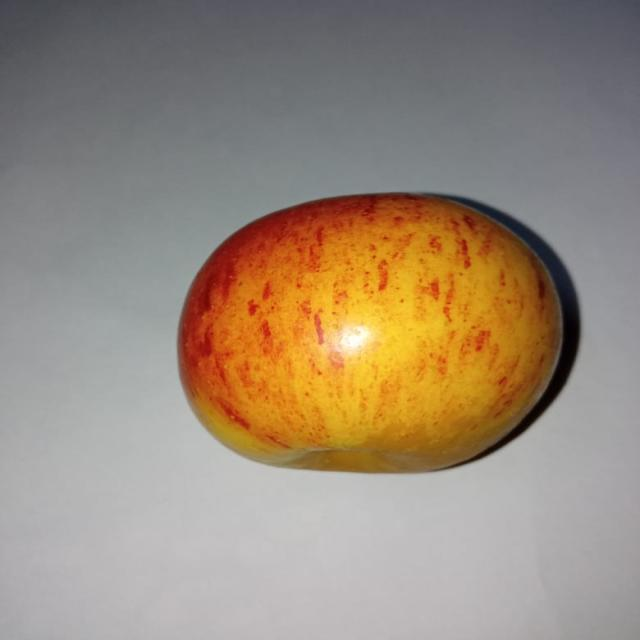fresh_apple: (176, 192, 564, 473)
